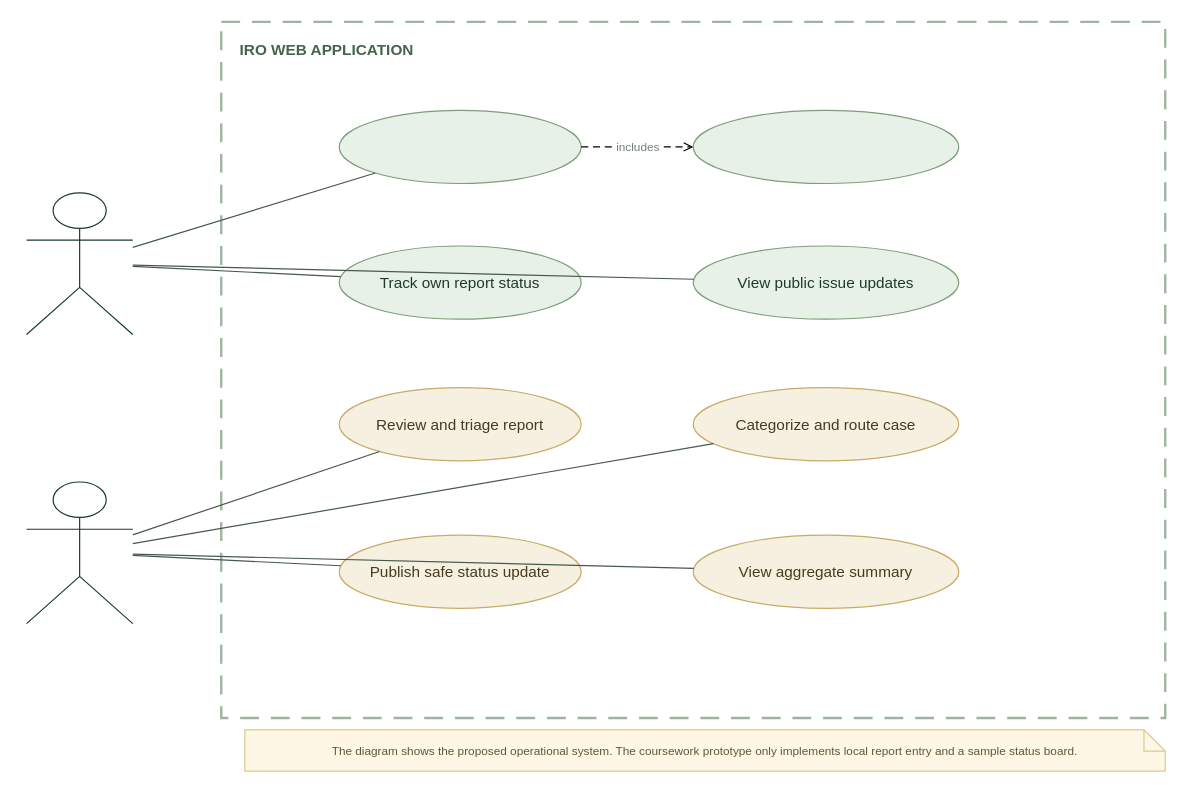
Some shapes in this 1187 by 792 pixel diagram are drawn without their labels. Here are the shapes that lost their labels. From the top down, the box of each, then its label:
(338, 109, 581, 183): Submit issue report
(692, 109, 959, 183): Choose privacy & broad area
(25, 192, 133, 335): Reporter (student / resident)
(25, 481, 133, 624): IRO Coordinator
